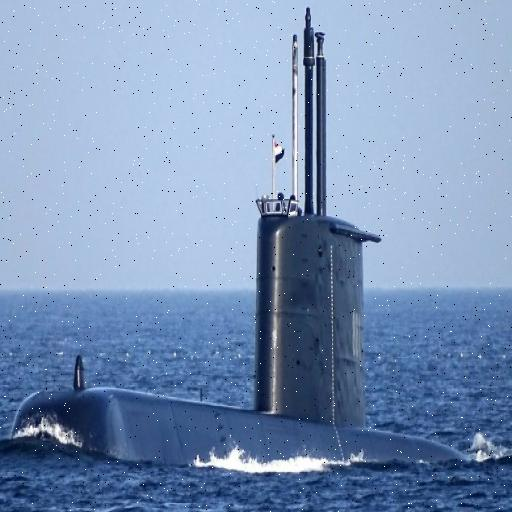submarine: (7, 1, 491, 465)
